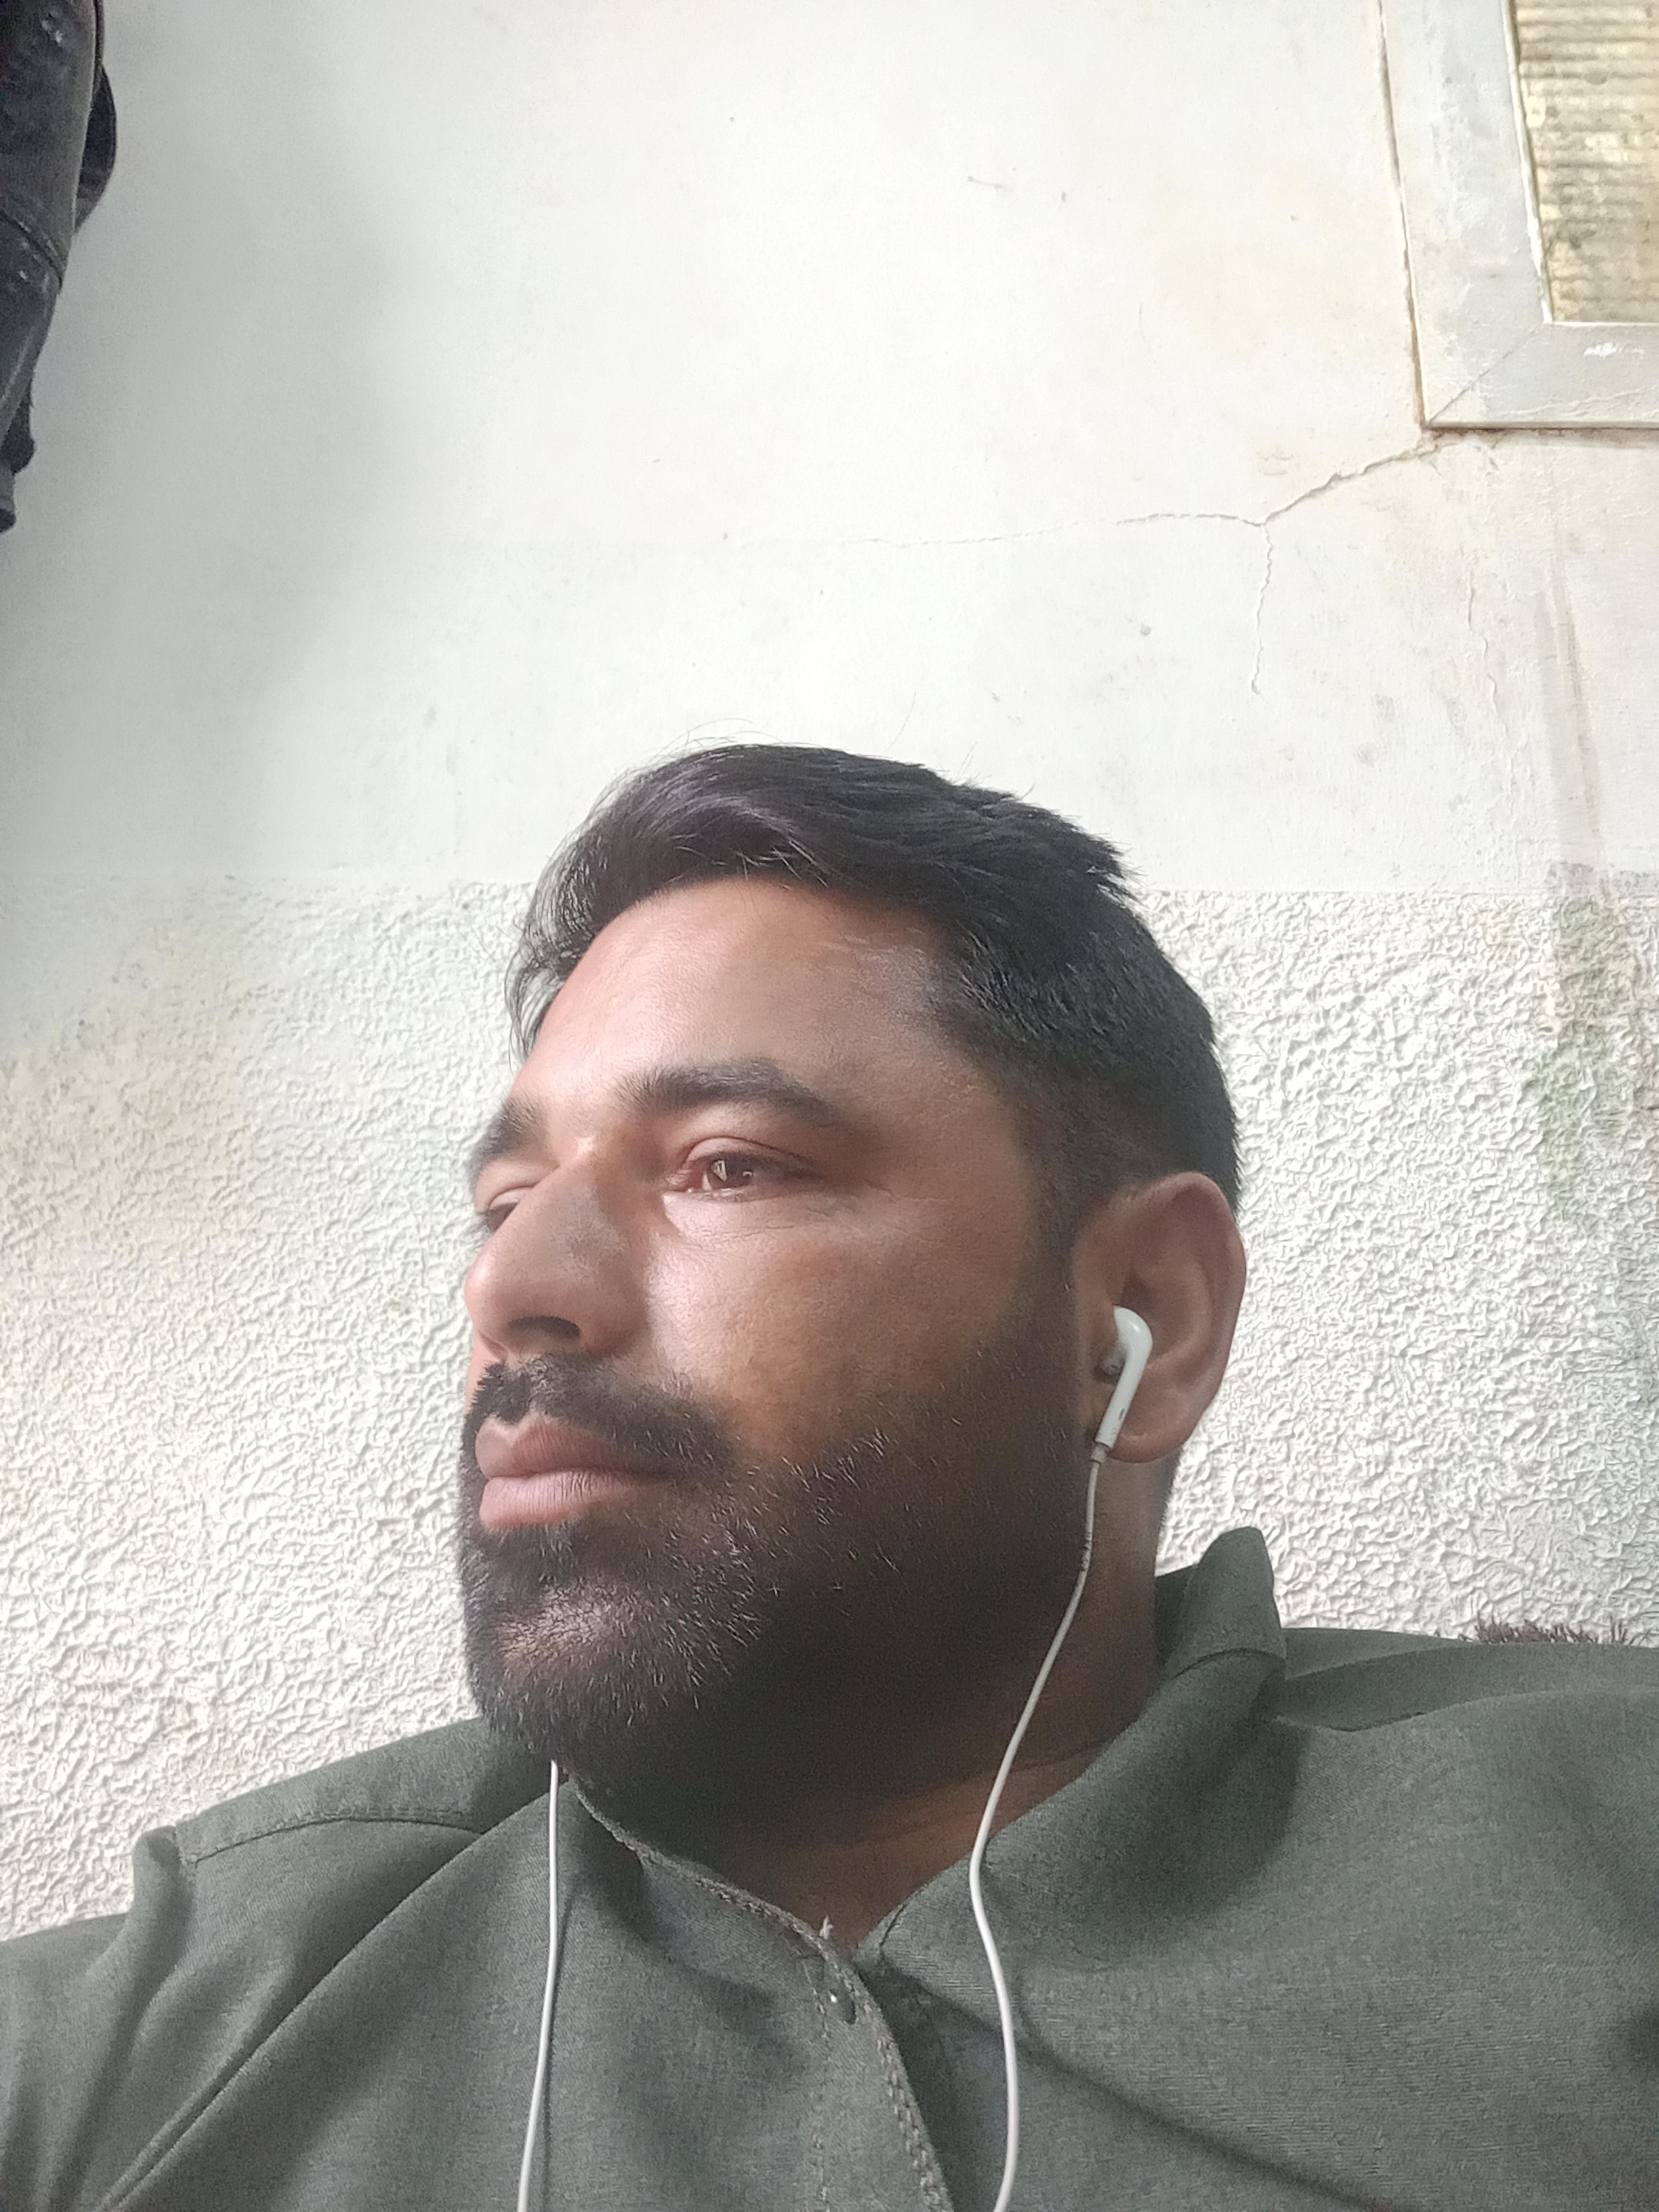Englarged-Pores: (666, 1271, 800, 1350), (565, 1204, 613, 1285)
Wrinkles: (864, 1176, 967, 1202), (878, 1224, 958, 1245), (805, 1205, 845, 1217)
